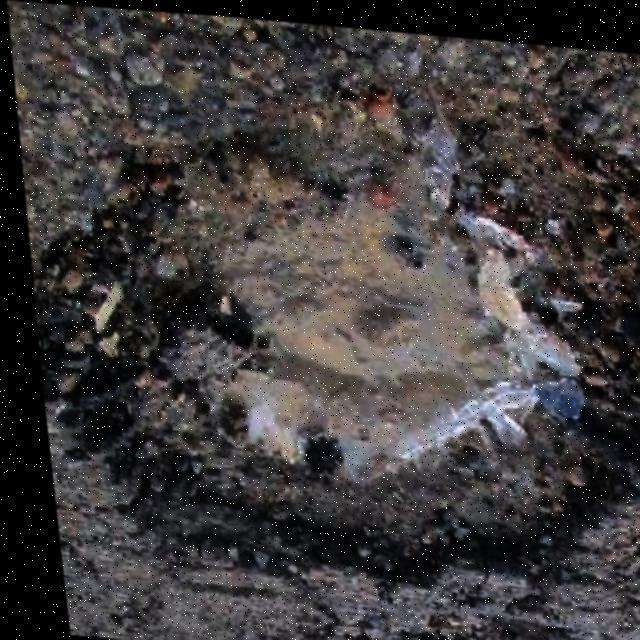pothole: (5, 57, 640, 619), (346, 582, 556, 640)
